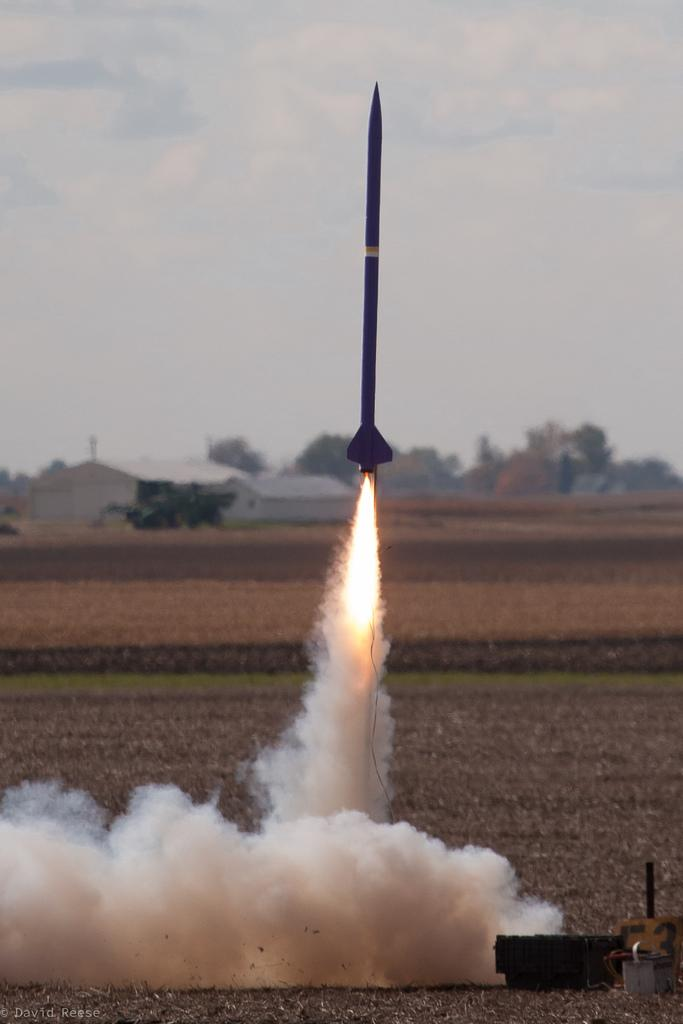Missile: (343, 81, 384, 476)
